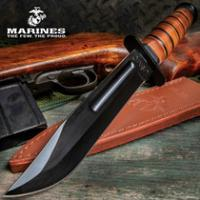knife: (3, 5, 184, 198)
